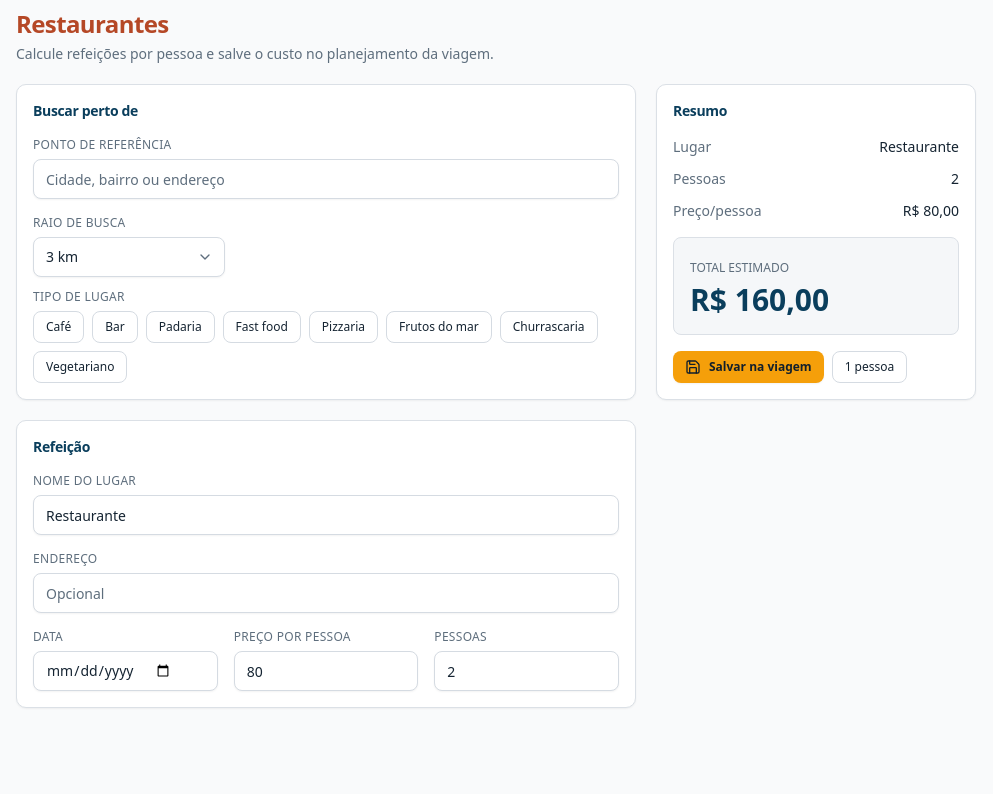
Test case: restaurantes module › finds restaurants near the resolved reference and selection from list or map fills the existing form
Type "São Paulo" into the dropdown labelled "Ponto de referência" at (326, 179), box [33,159,619,199]
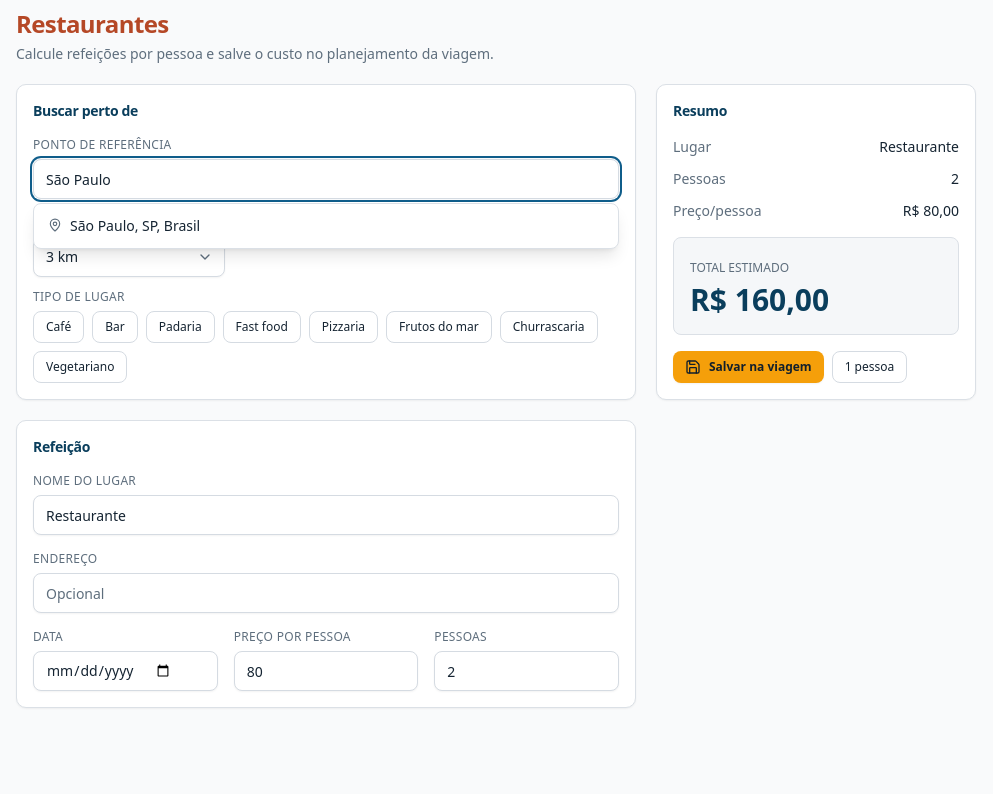
Click the option "São Paulo, SP, Brasil" at (135, 226), box [38,208,614,244]
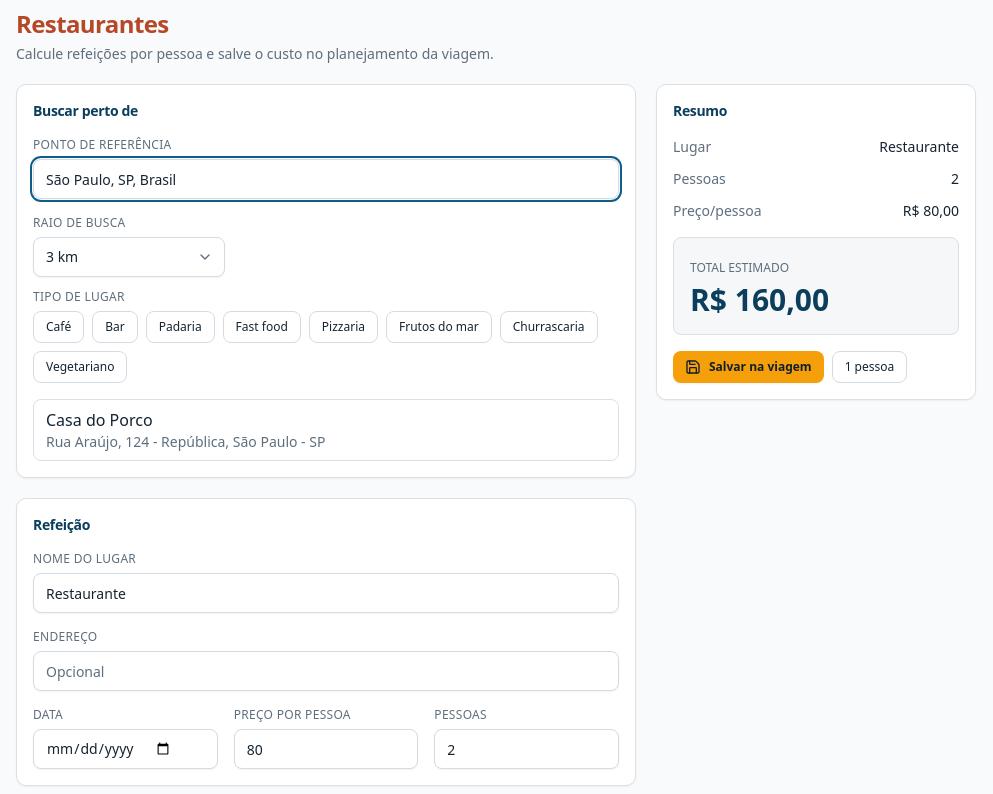
Expected: the button "Casa do Porco Rua Araújo, 124 - República, São Paulo - SP" is shown
Click the button "Casa do Porco Rua Araújo, 124 - República, São Paulo - SP" at (326, 430), box [33,399,619,461]
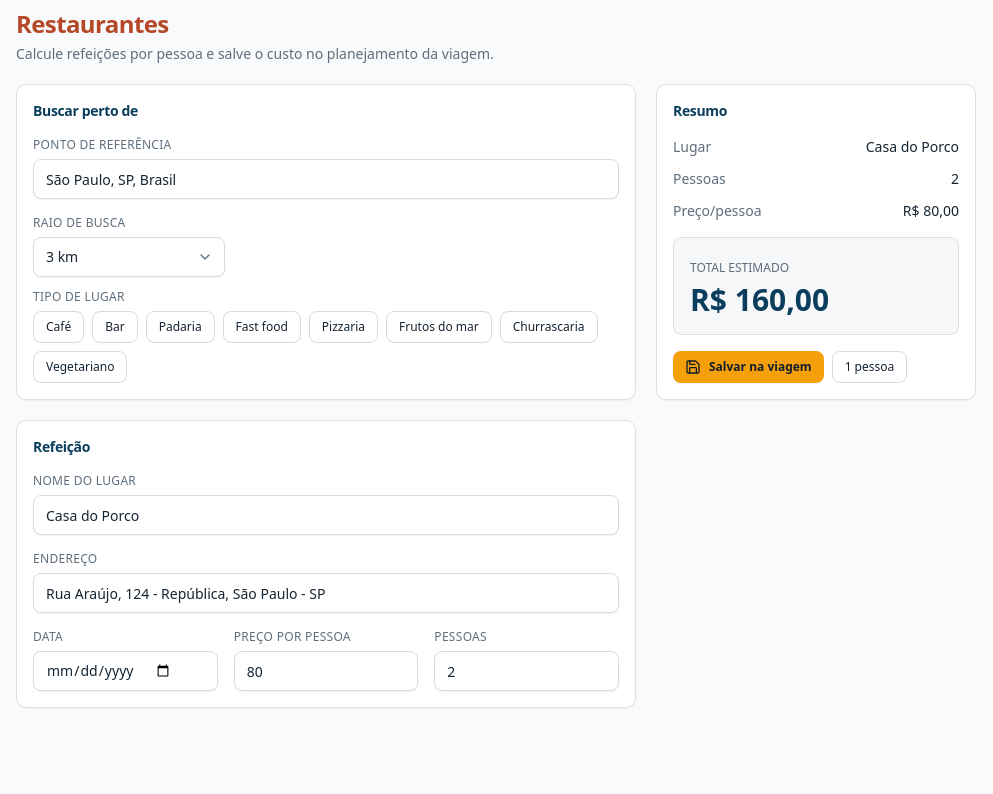
Expected: the field labelled "Nome do lugar" holds "Casa do Porco", [33,495,619,535]
Expected: the field labelled "Endereço" holds "Rua Araújo, 124 - República, São Paulo - SP", [33,573,619,613]
Replace the text in the dropdown labelled "Ponto de referência" with "São Paulo" at (326, 179), box [33,159,619,199]
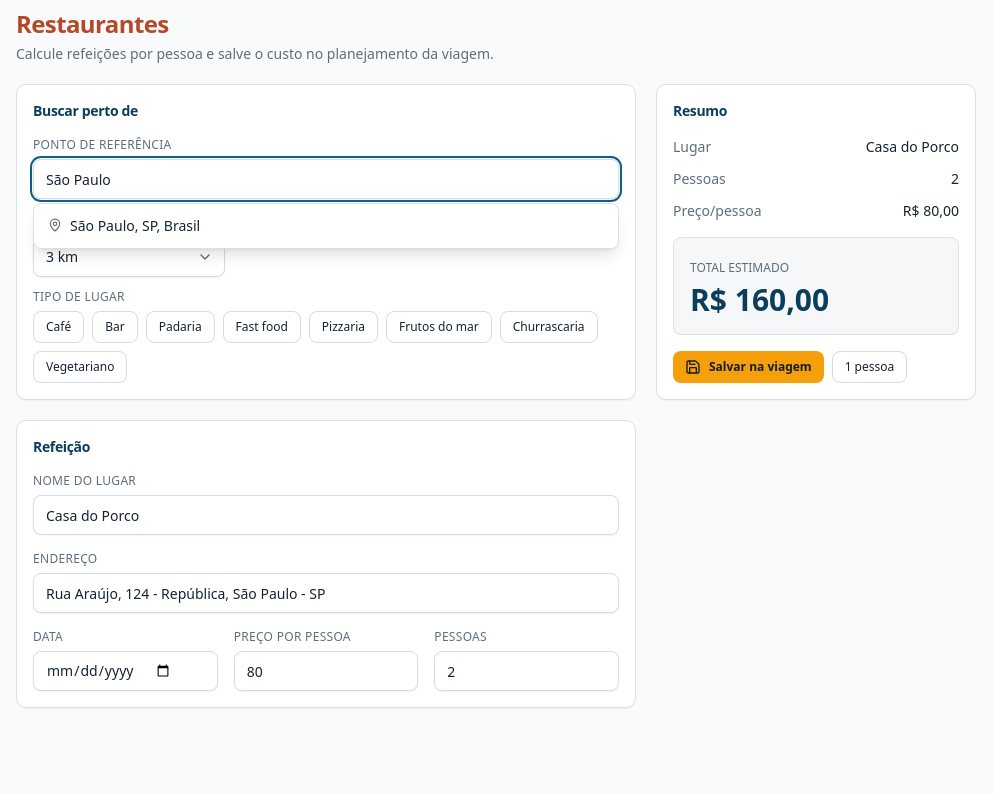
Click the option "São Paulo, SP, Brasil" at (135, 226), box [38,208,614,244]
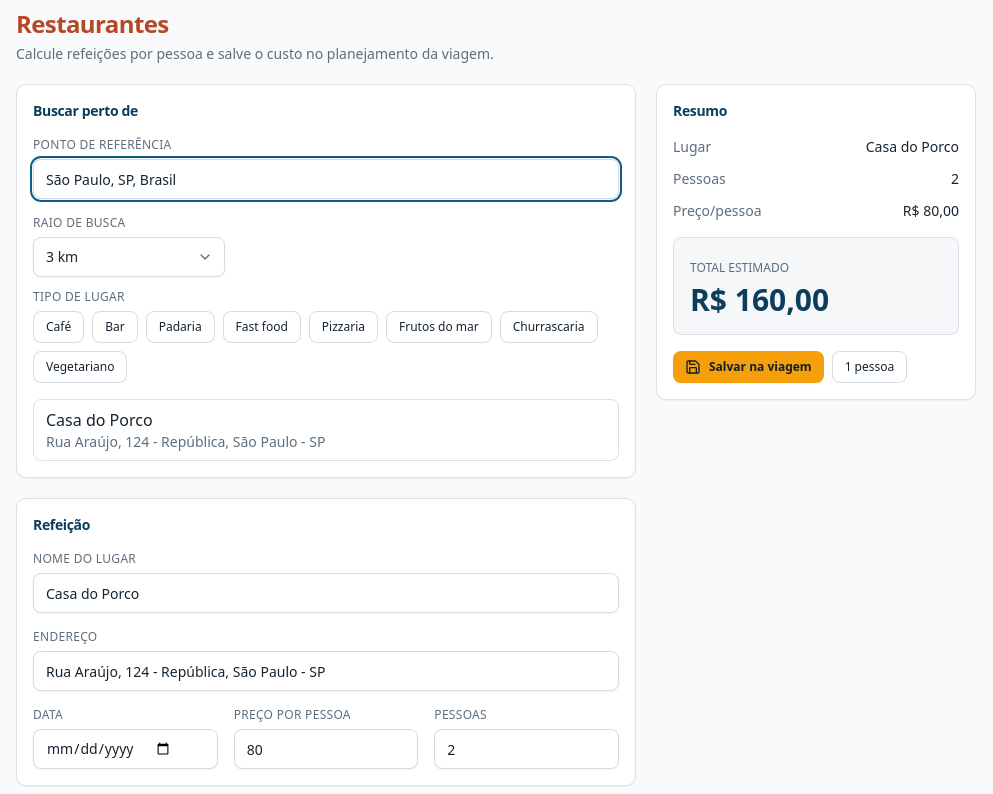
Expected: the list named "Restaurantes encontrados" is shown, [33,399,619,461]
